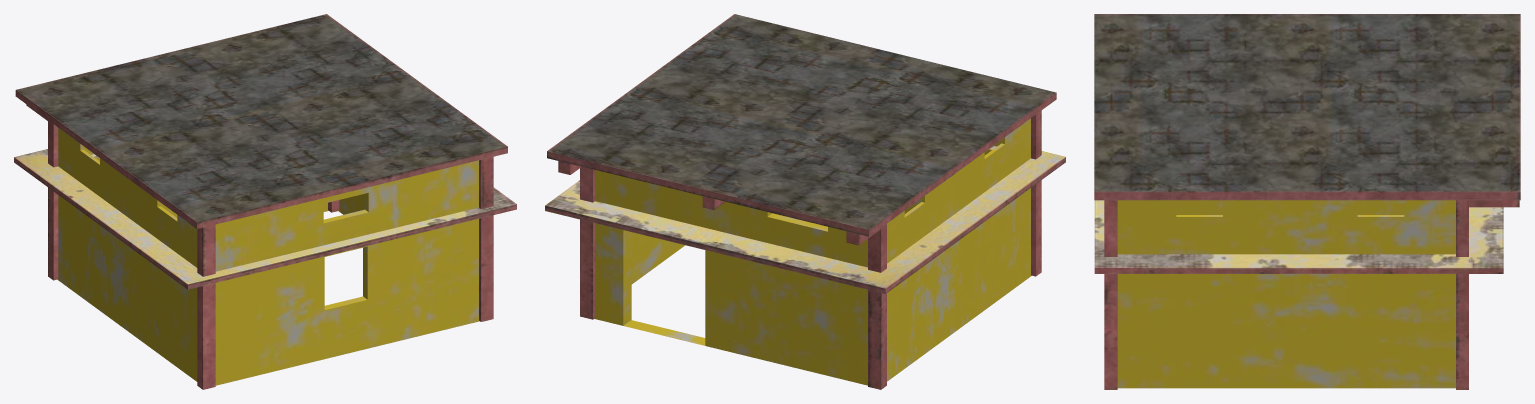
The model's file is panchayat.opt.glb.
3 renders of one model, left to right at view 1: azimuth 30°, elevation 25°; view 2: azimuth 150°, elevation 25°; view 3: azimuth 270°, elevation 25°, orthographic. The views are drawn at different scales.
Visible parts, largest first — view 1: building_002; view 2: building_002; view 3: building_002.
Part boxes in pixels (x1,y1,x2,y2): building_002: [14, 14, 516, 389]; building_002: [545, 14, 1065, 389]; building_002: [1094, 14, 1520, 389].
Bounding box in the file's own units: 6.55 × 3.31 × 6.25.
Materials: 1 (1 with a texture image).
